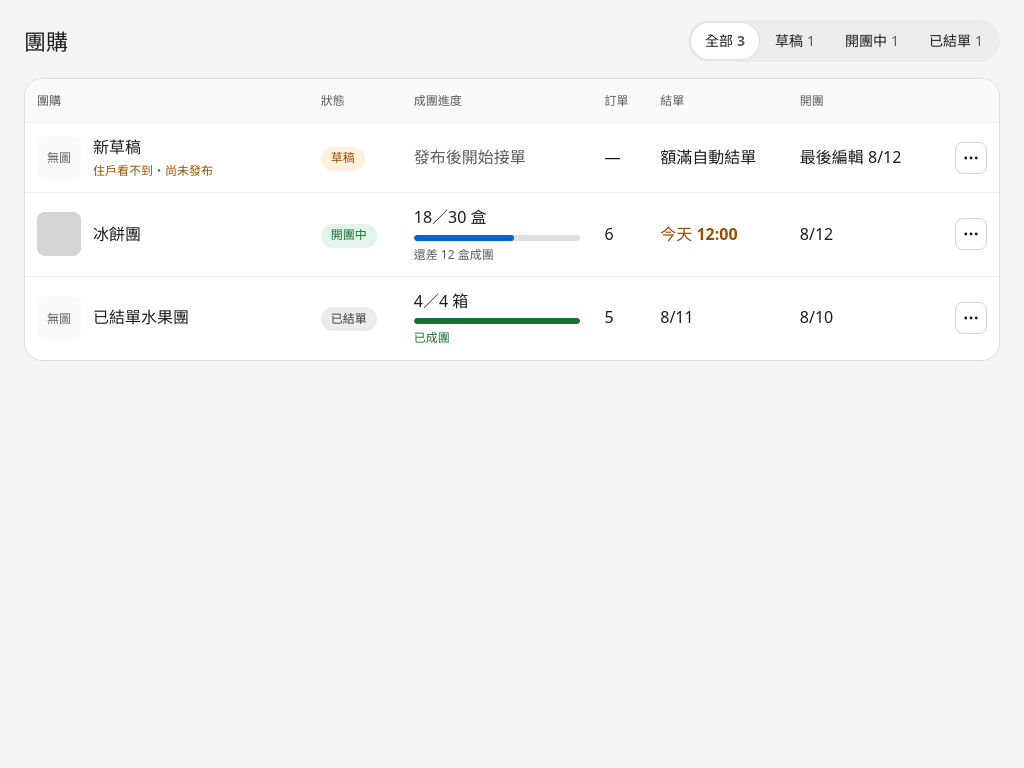
Test: OrganizerHome › requires explicit confirmation before permanently deleting a campaign
Click the button named "更多操作 冰餅團": (971,234) [955,218,987,250]
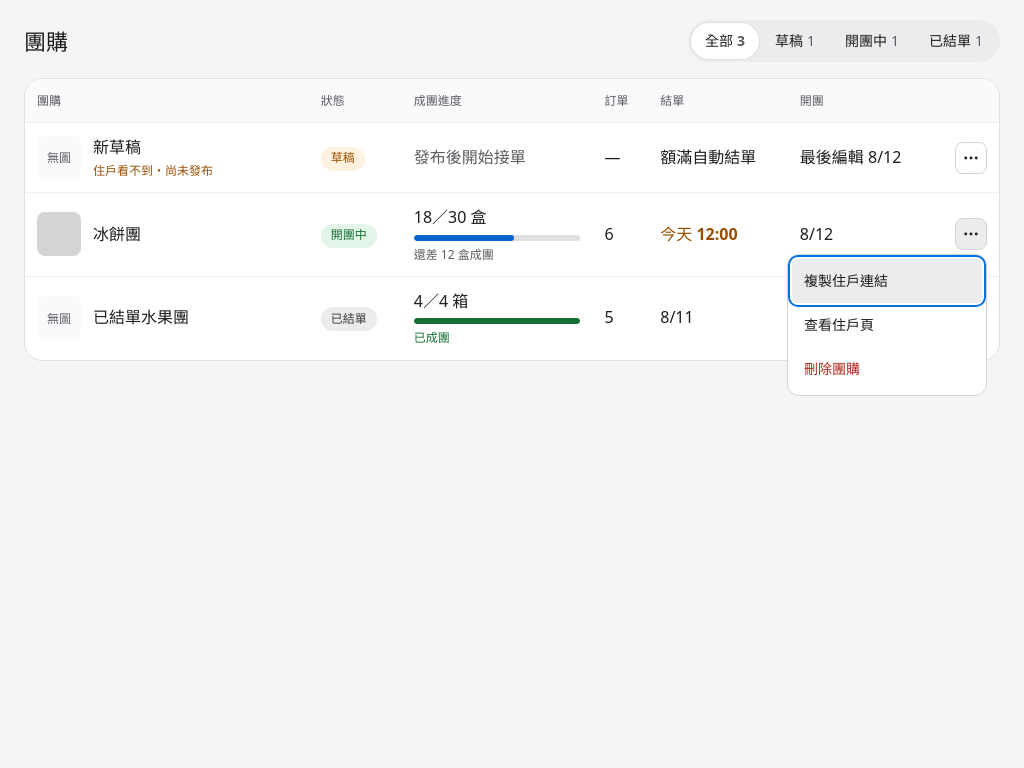
Click the menu item with aria-label "刪除 冰餅團": (887,369) [792,347,982,391]
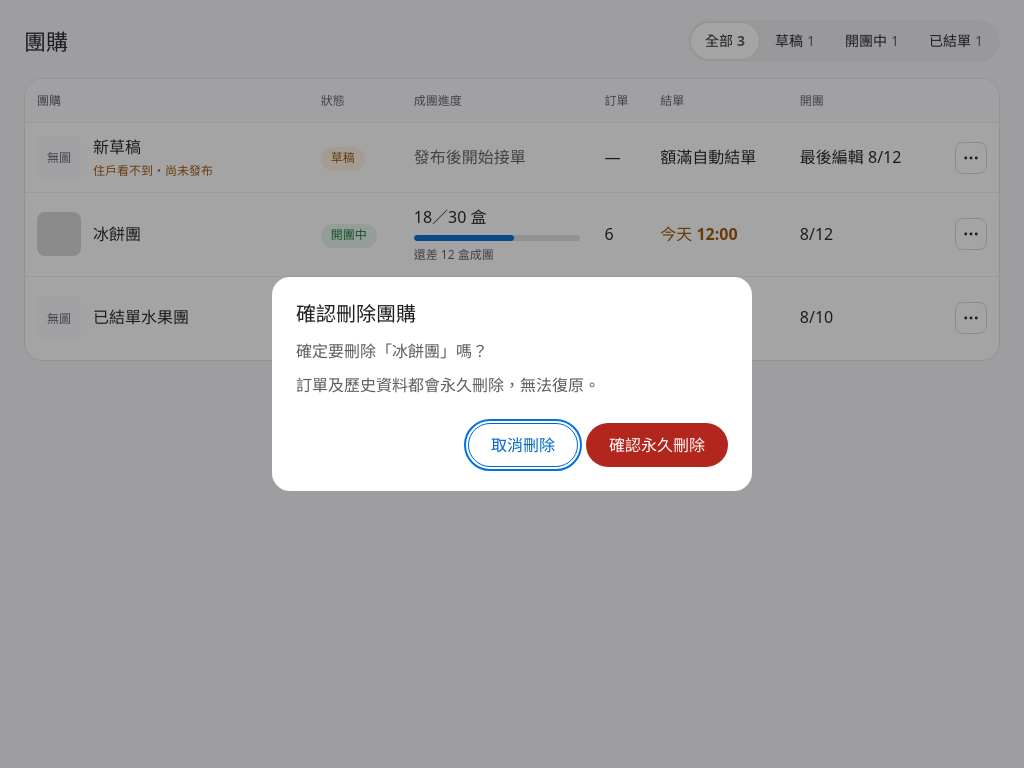
Now the dialog "確認刪除團購" shows "冰餅團", box [392,340,440,362]
Now the dialog "確認刪除團購" shows "訂單及歷史資料都會永久刪除，無法復原", box [296,374,600,396]
Click the button "取消刪除": (523,445) [468,423,578,467]
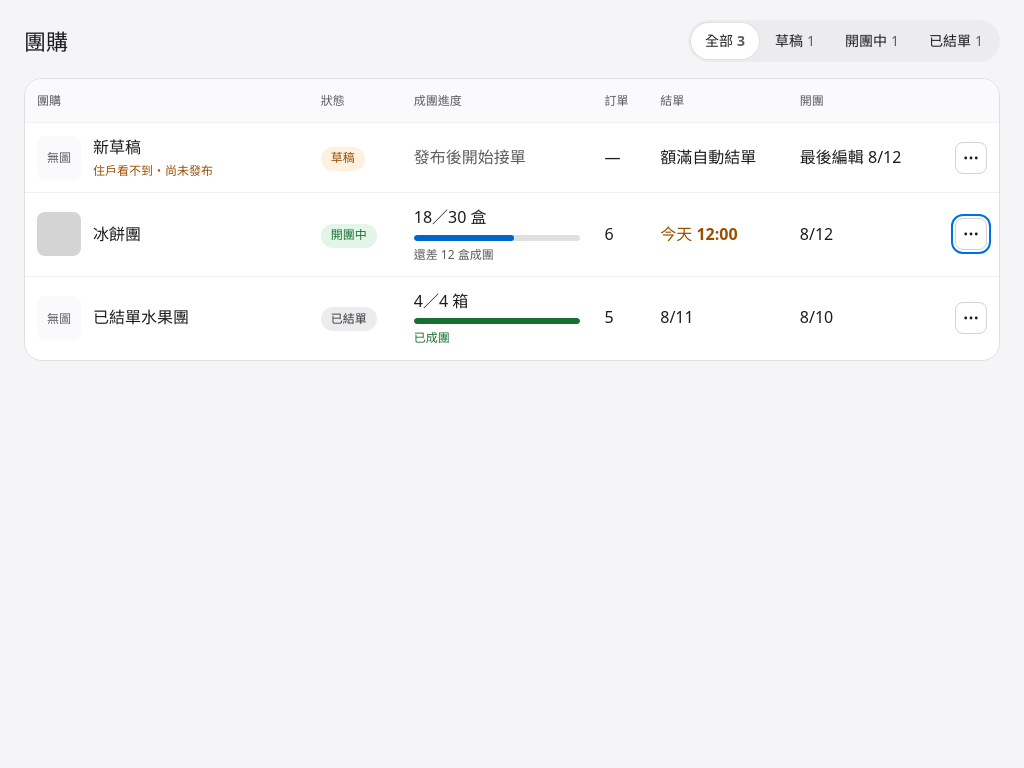
Now the heading "確認刪除團購" is gone
Click the button named "更多操作 冰餅團": (971,234) [955,218,987,250]
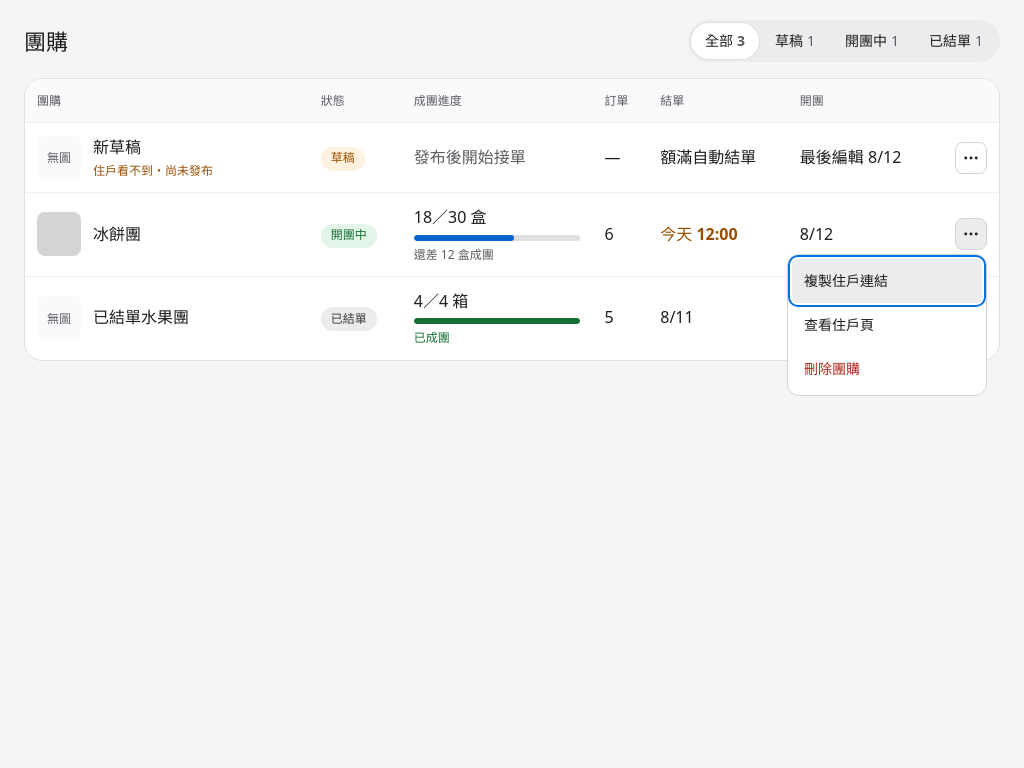
Click the menu item with aria-label "刪除 冰餅團": (887,369) [792,347,982,391]
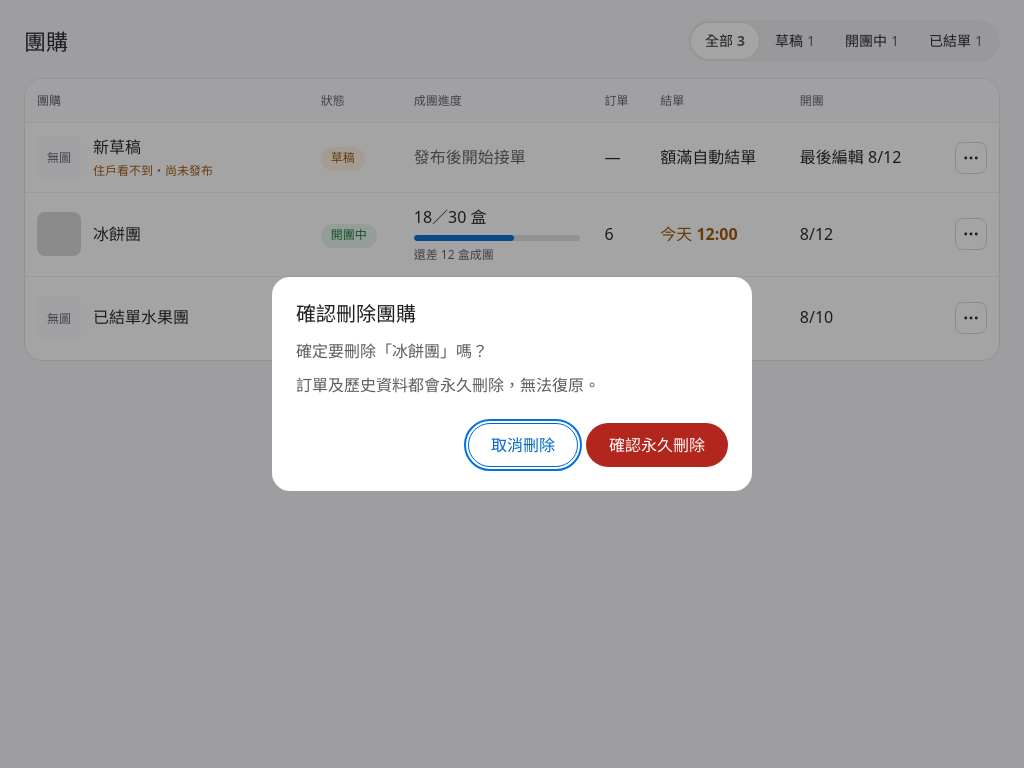
Click the button "確認永久刪除": (657,445) [586,423,728,467]
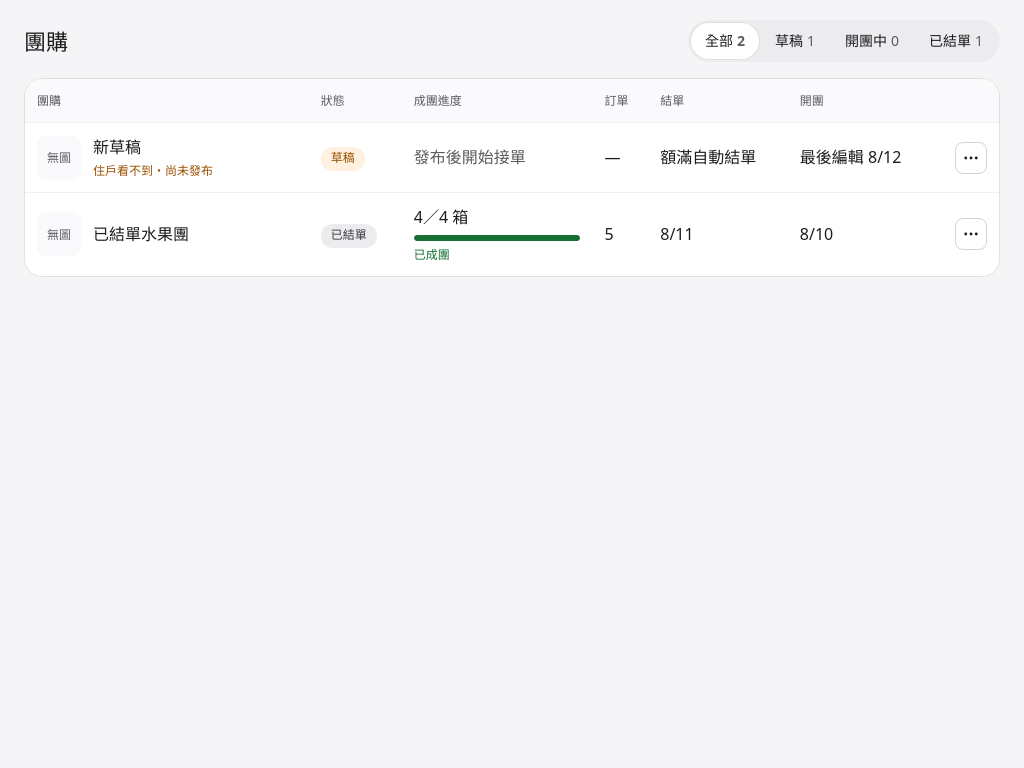
Now the link "冰餅團" is gone
